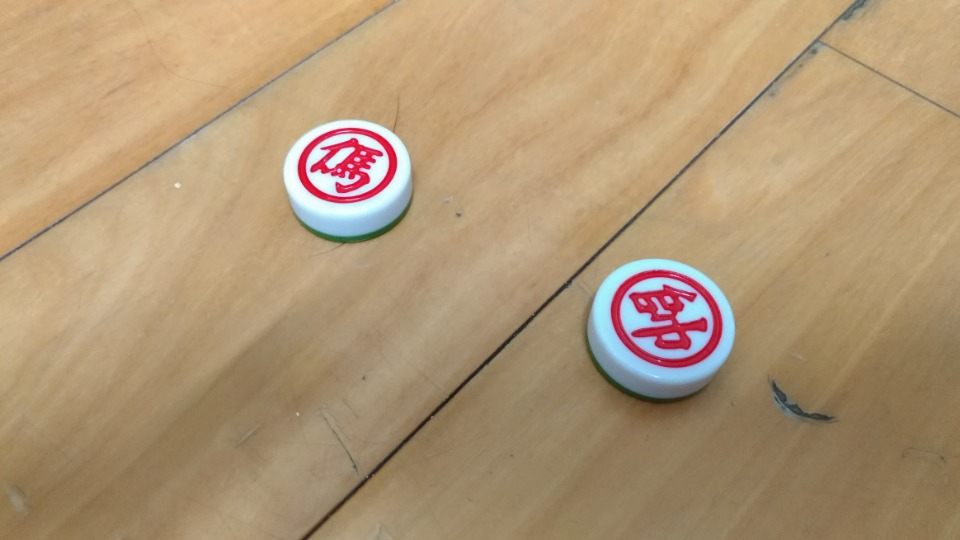r-king: (563, 241, 767, 411)
r-knight: (270, 104, 445, 255)
